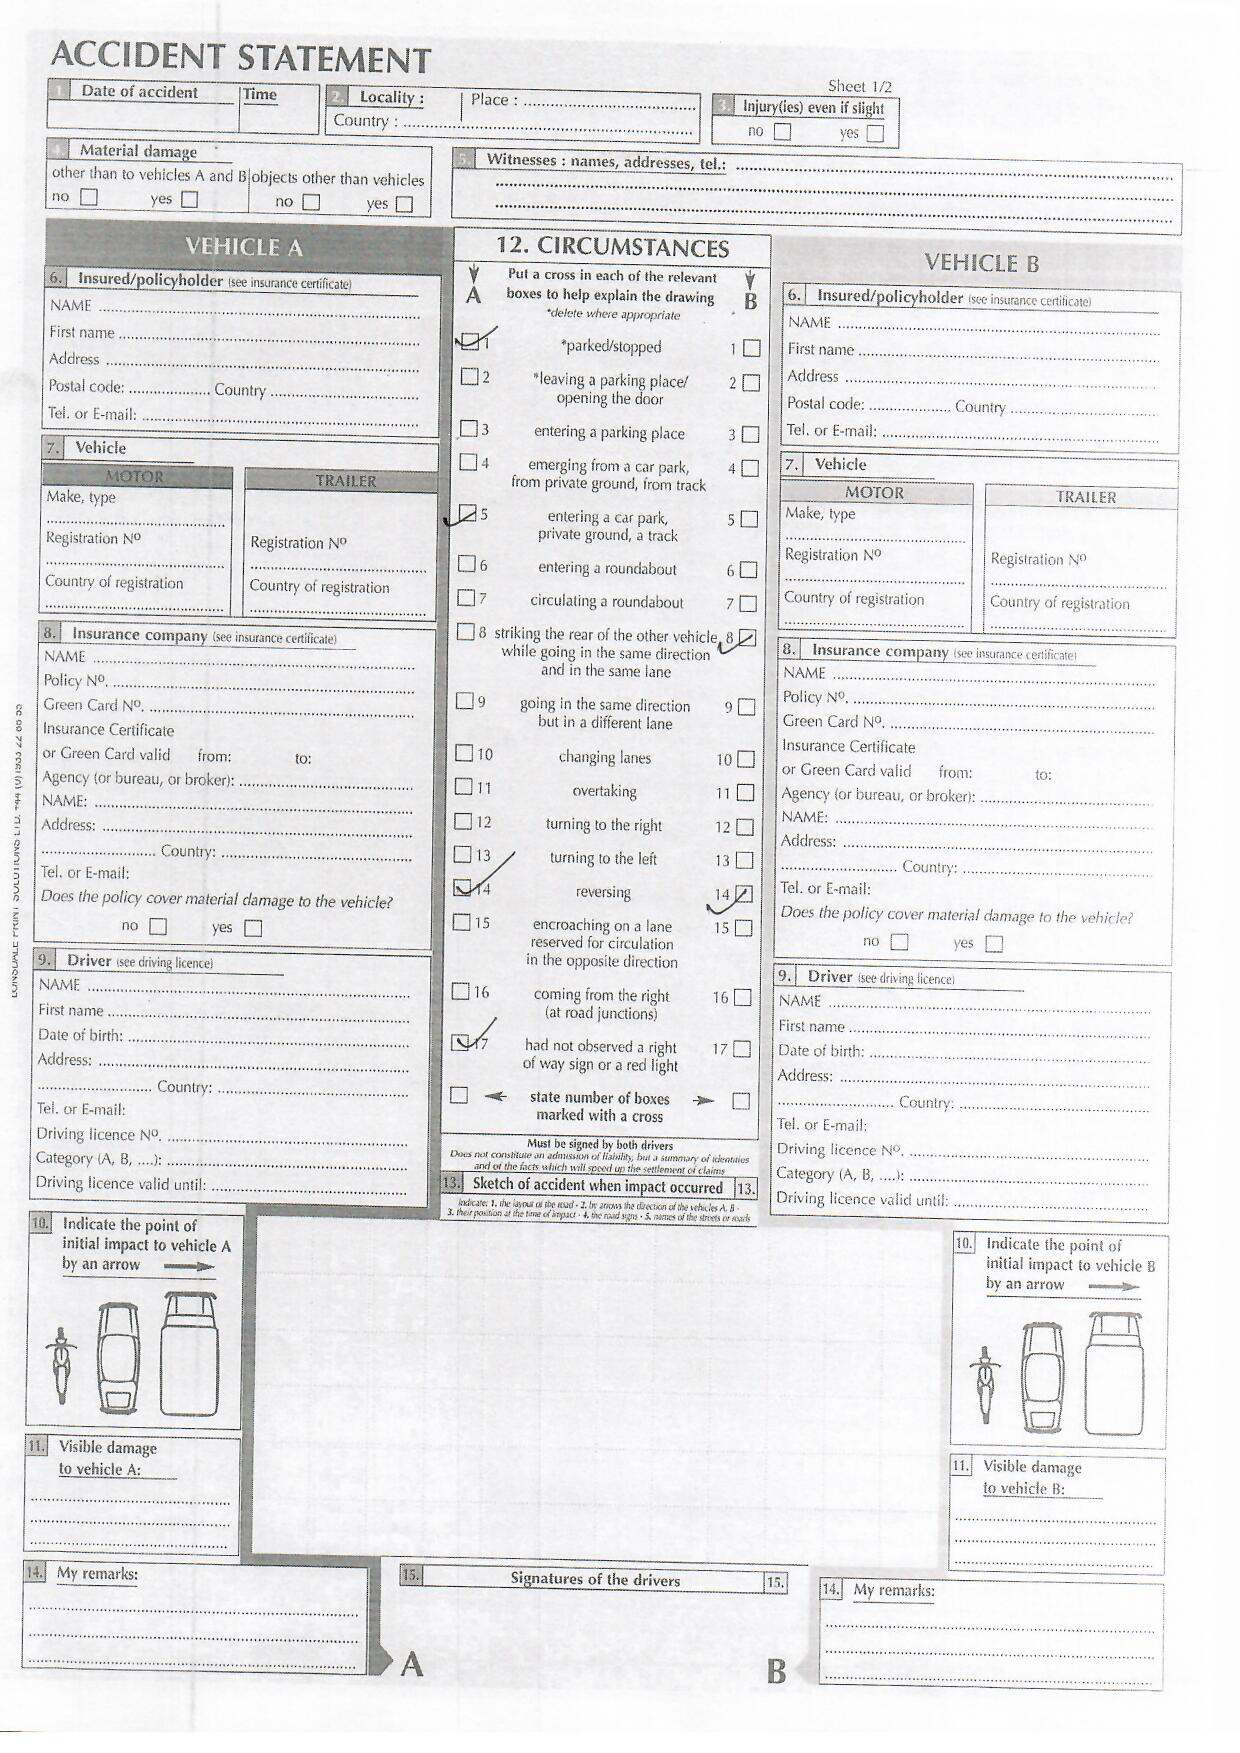a: (458, 329, 484, 354), (450, 874, 474, 901), (735, 625, 760, 651), (448, 1030, 472, 1055), (454, 501, 480, 523), (731, 882, 756, 906)
